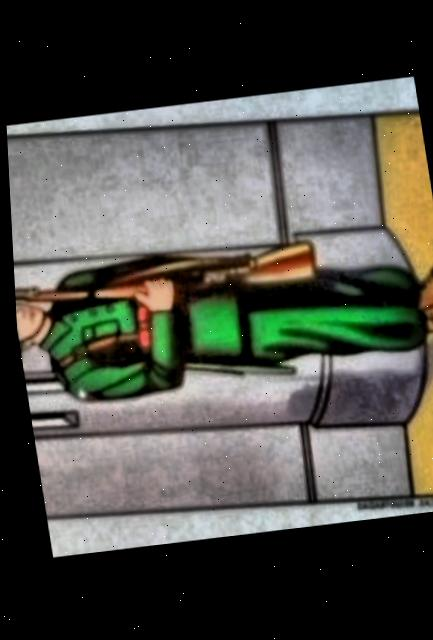El Soldado: (6, 114, 433, 521)
